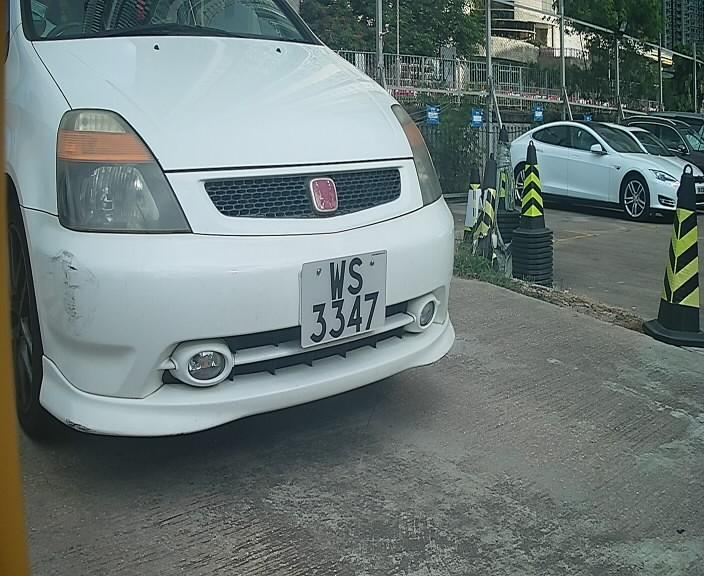License Plate: (293, 247, 400, 358)
